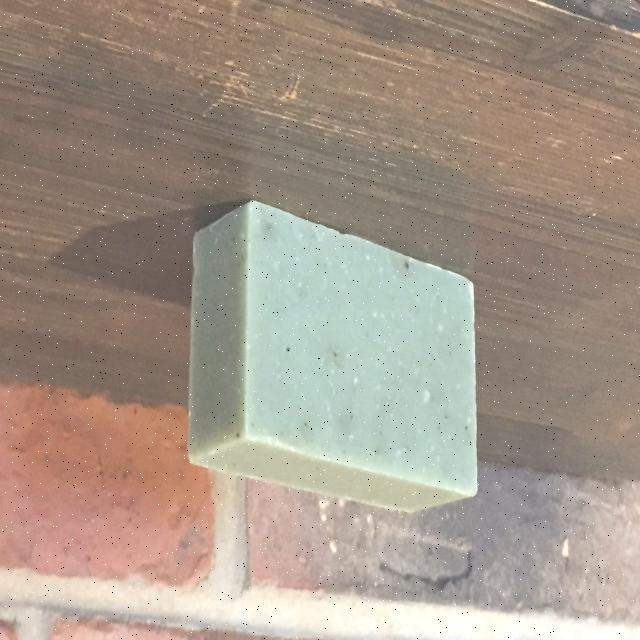soap: (185, 195, 485, 521)
